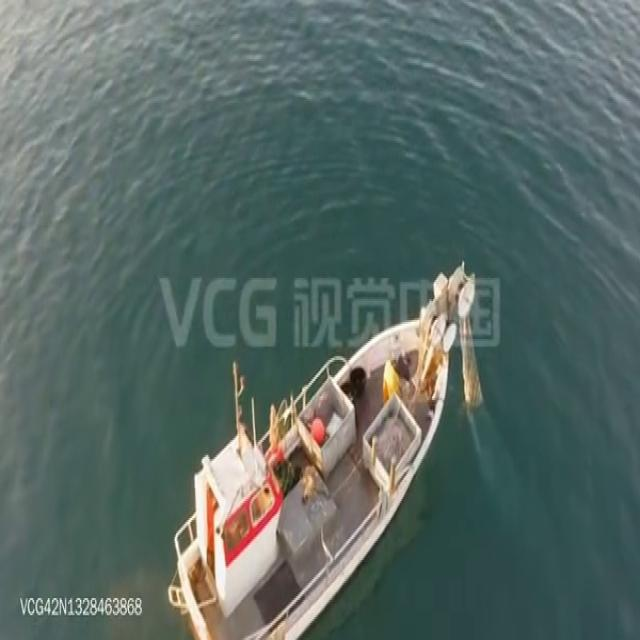houseboat: (168, 257, 481, 640)
